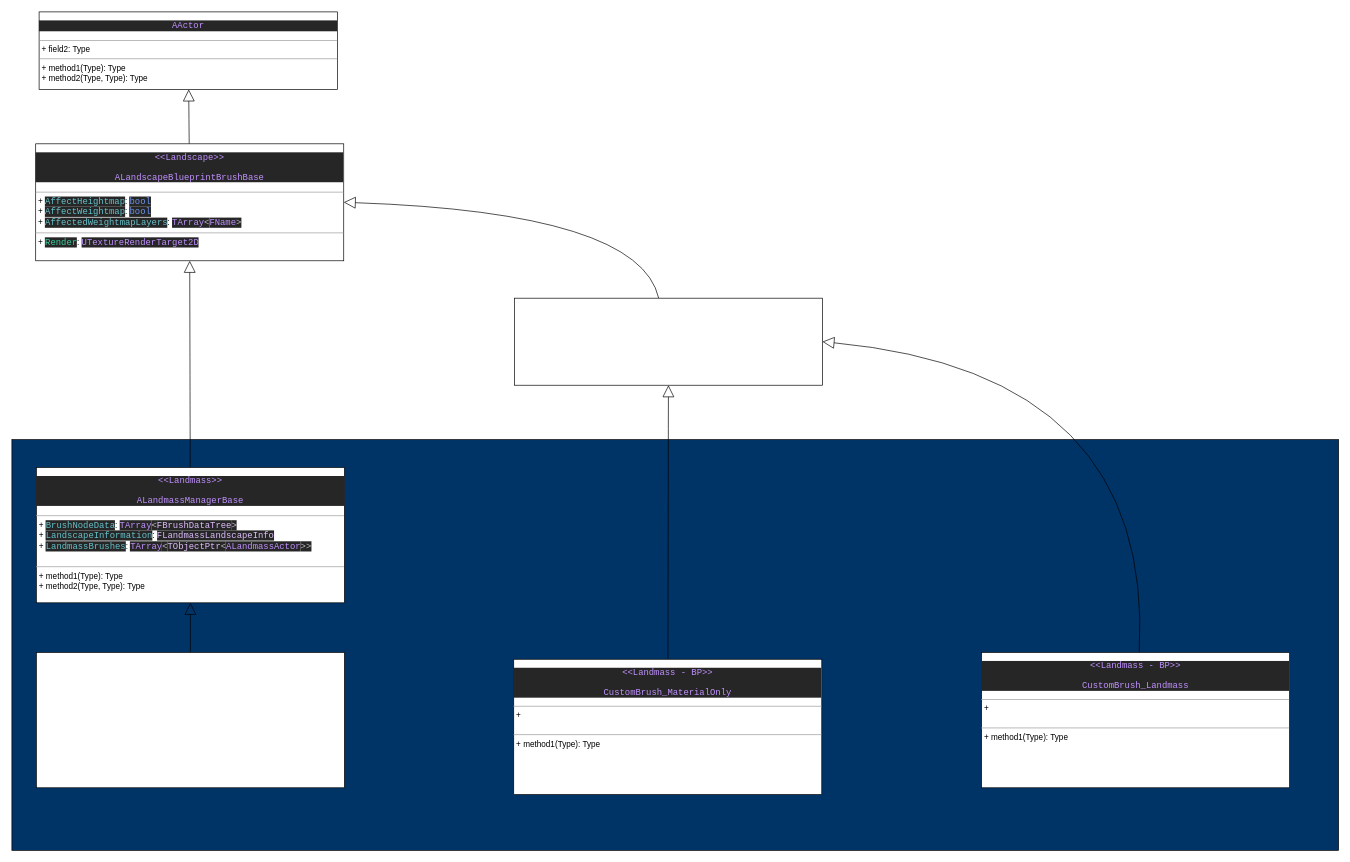
Image size: 1350x862. Some labels were removed from this diagram. Each missing label, with the centre of its shape:
<< LandscapeEditorUtilities >> ALandscapeBlueprintBrush: (x=668, y=341)
<<Landmass - BP>> LandmassBrushManager + + method1(Type): Type: (x=190, y=720)
